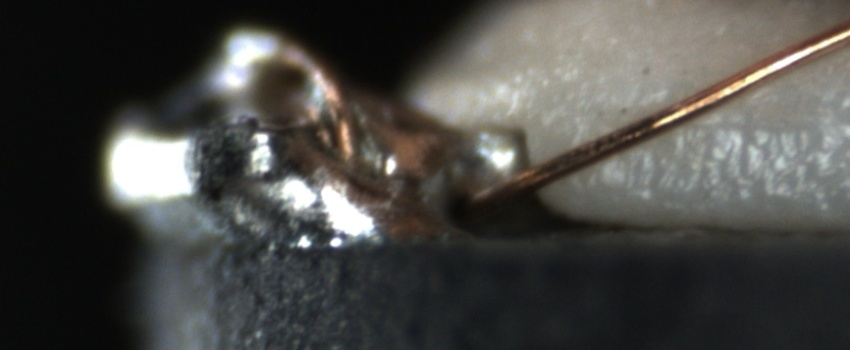DL: (678, 94, 850, 158)
